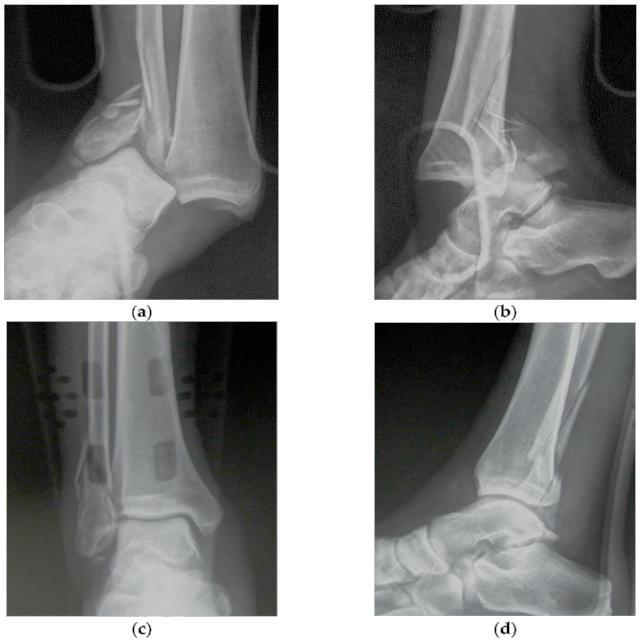Fracture Dislocation: (539, 375, 596, 448), (112, 74, 164, 130)
